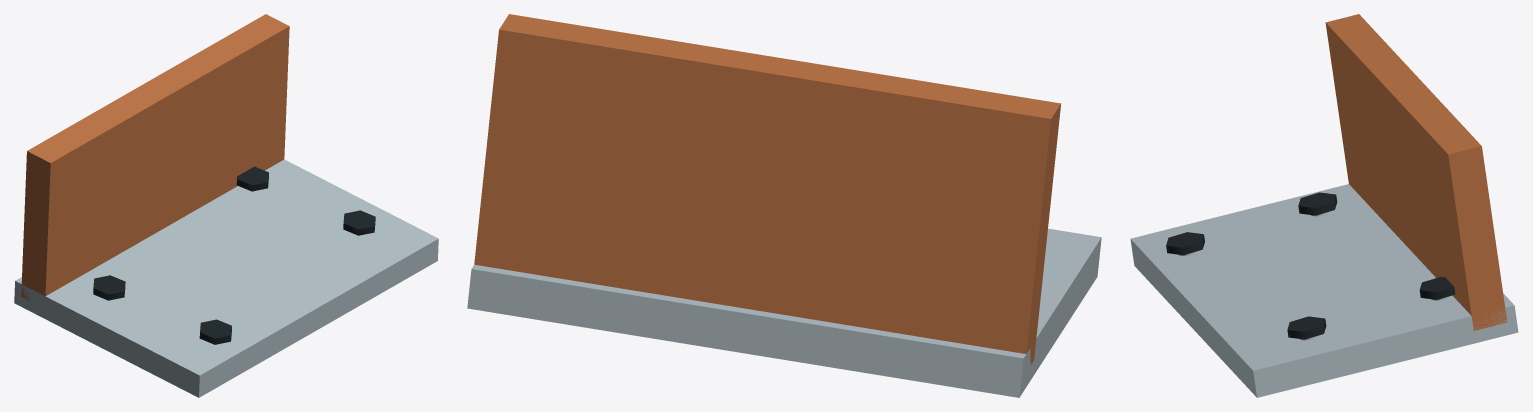
Rendered from bracket.glb.
3 renders of one model, left to right at view 1: azimuth 30°, elevation 25°; view 2: azimuth 150°, elevation 25°; view 3: azimuth 270°, elevation 25°, orthographic. The views are drawn at different scales.
Parts seen in each view (by area): view 1: Bracket foot, Bracket upright, Shared bolt instance 2, Shared bolt instance 3, Shared bolt instance 1, Shared bolt instance 4; view 2: Bracket upright, Bracket foot; view 3: Bracket foot, Bracket upright, Shared bolt instance 2, Shared bolt instance 3, Shared bolt instance 1, Shared bolt instance 4.
Part boxes in pixels (x1,y1,x2,y2): Bracket foot: [14, 159, 438, 397]; Bracket upright: [21, 14, 289, 300]; Shared bolt instance 2: [343, 210, 375, 235]; Shared bolt instance 3: [93, 275, 125, 300]; Shared bolt instance 1: [199, 319, 231, 344]; Shared bolt instance 4: [236, 166, 268, 191]; Bracket upright: [474, 14, 1061, 364]; Bracket foot: [467, 228, 1101, 397]; Bracket foot: [1130, 184, 1518, 397]; Bracket upright: [1325, 14, 1507, 330]; Shared bolt instance 2: [1287, 316, 1326, 340]; Shared bolt instance 3: [1298, 192, 1337, 216]; Shared bolt instance 1: [1166, 232, 1204, 255]; Shared bolt instance 4: [1419, 276, 1455, 300].
Size of the model in its own units: 1.43 by 0.8052 by 1.18.
